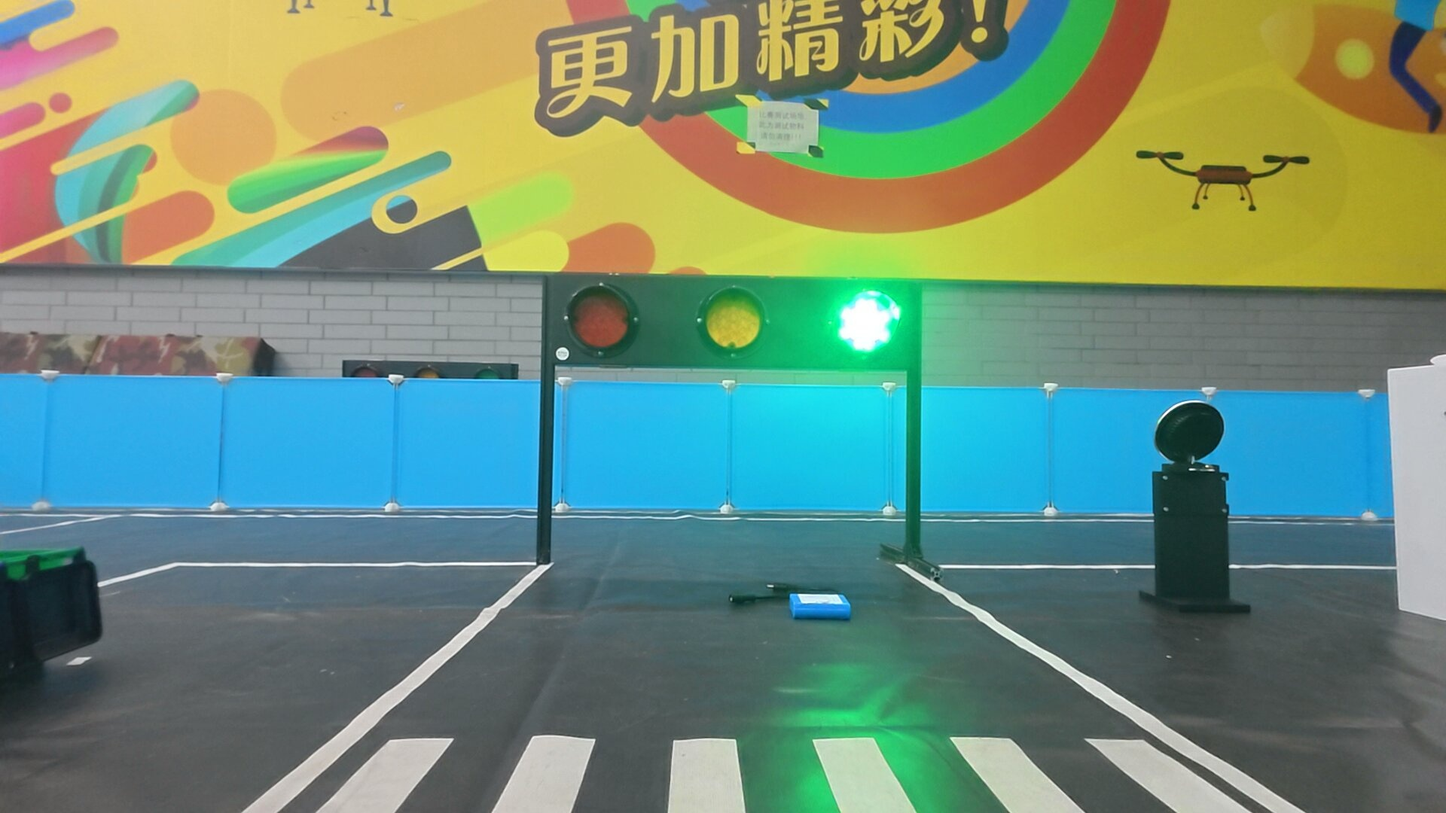go: (830, 285, 905, 362)
